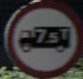Heavy Vehicles: (9, 2, 73, 69)
